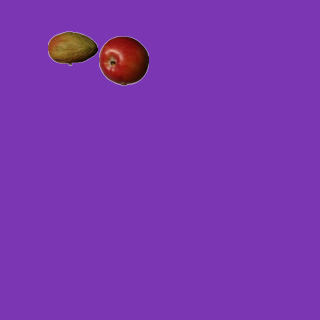Apple Braeburn: (98, 35, 148, 85)
Papaya: (47, 23, 97, 73)
